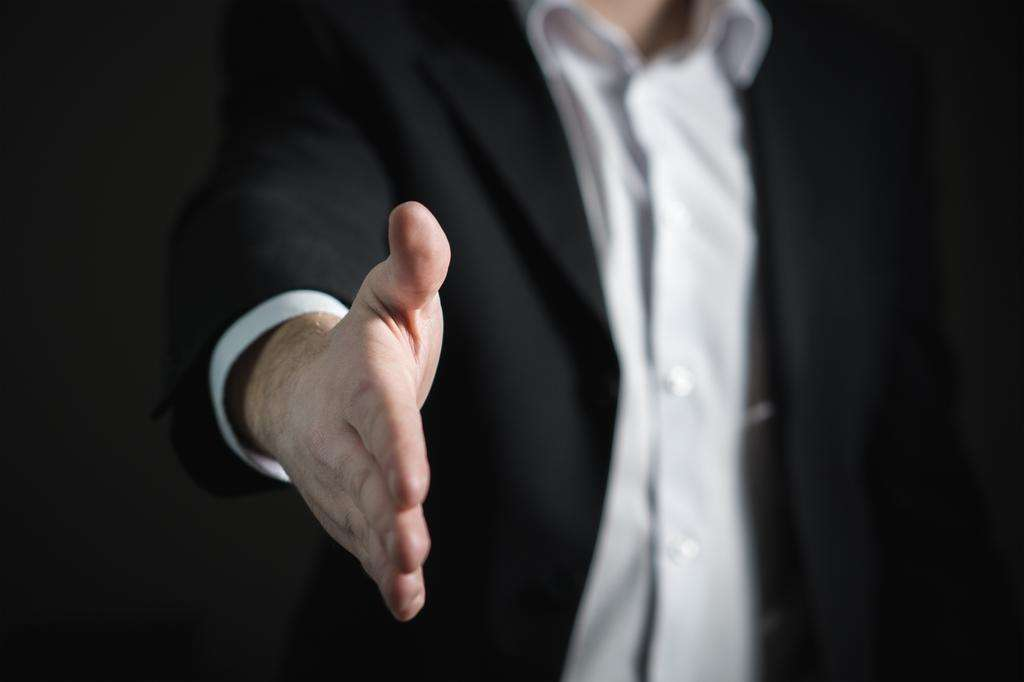no-phone: (249, 196, 452, 623)
